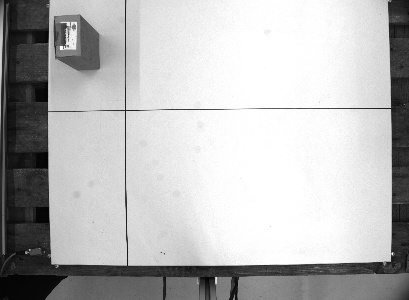b6: (50, 11, 102, 73)
